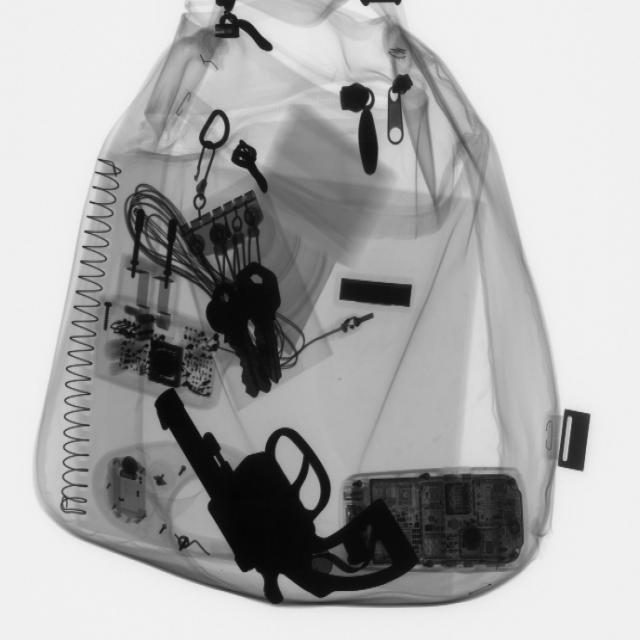GUN: (162, 378, 414, 610)
